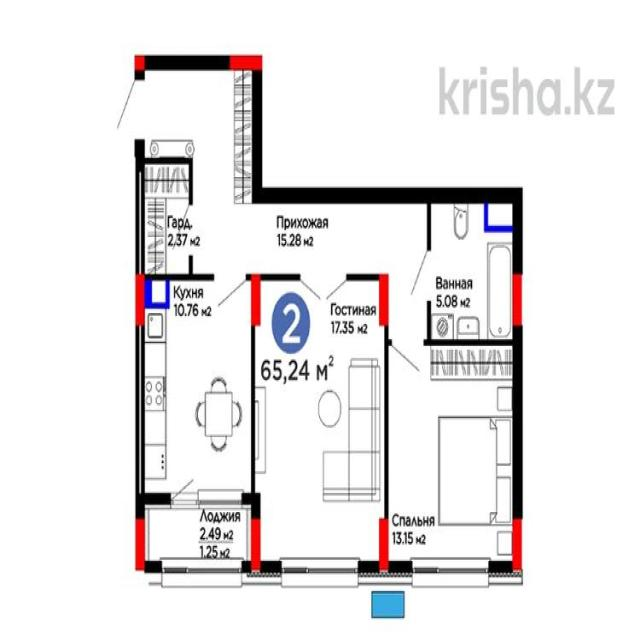balcony: (136, 502, 255, 566)
bathroom: (430, 194, 520, 342)
hallway: (192, 192, 429, 276), (140, 63, 256, 159)
kitchen: (139, 279, 255, 499)
living_room: (256, 276, 384, 564), (385, 346, 520, 570)
other: (137, 161, 192, 277)
